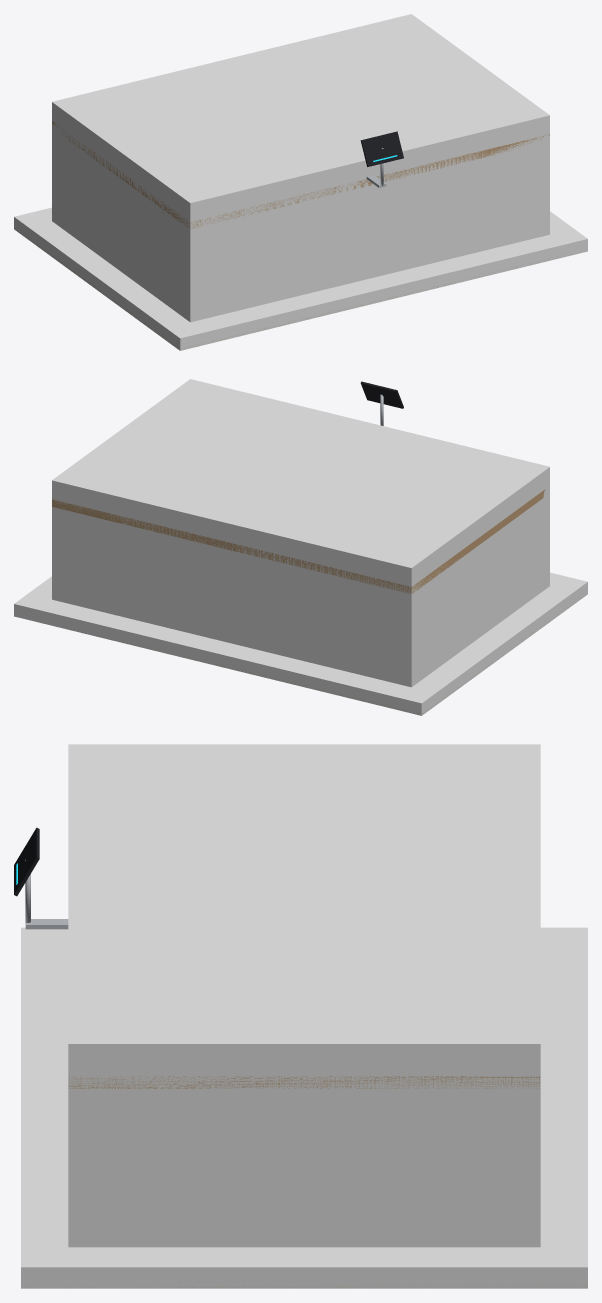
File: Furn_HoloTable.gltf
3 renders of one model, top to bottom at view 1: azimuth 30°, elevation 25°; view 2: azimuth 150°, elevation 25°; view 3: azimuth 270°, elevation 25°, orthographic. The views are drawn at different scales.
Visible parts, largest first — view 1: Furn_HoloTable_COL, Furn_HoloTable_COL1, Furn_HoloTable; view 2: Furn_HoloTable_COL, Furn_HoloTable_COL1, Furn_HoloTable; view 3: Furn_HoloTable_COL, Furn_HoloTable_COL1, Furn_HoloTable.
Boxes of the visible parts, left/top/right/bottom form: Furn_HoloTable_COL: left=52, top=14, right=549, bottom=322; Furn_HoloTable_COL1: left=14, top=207, right=587, bottom=350; Furn_HoloTable: left=16, top=121, right=586, bottom=349; Furn_HoloTable_COL: left=52, top=379, right=549, bottom=687; Furn_HoloTable_COL1: left=14, top=572, right=587, bottom=715; Furn_HoloTable: left=16, top=381, right=586, bottom=715; Furn_HoloTable_COL: left=68, top=744, right=540, bottom=1247; Furn_HoloTable_COL1: left=21, top=927, right=587, bottom=1288; Furn_HoloTable: left=14, top=827, right=587, bottom=1288.
Bounding box in the file's own units: 3.4 × 1.29 × 2.43.
